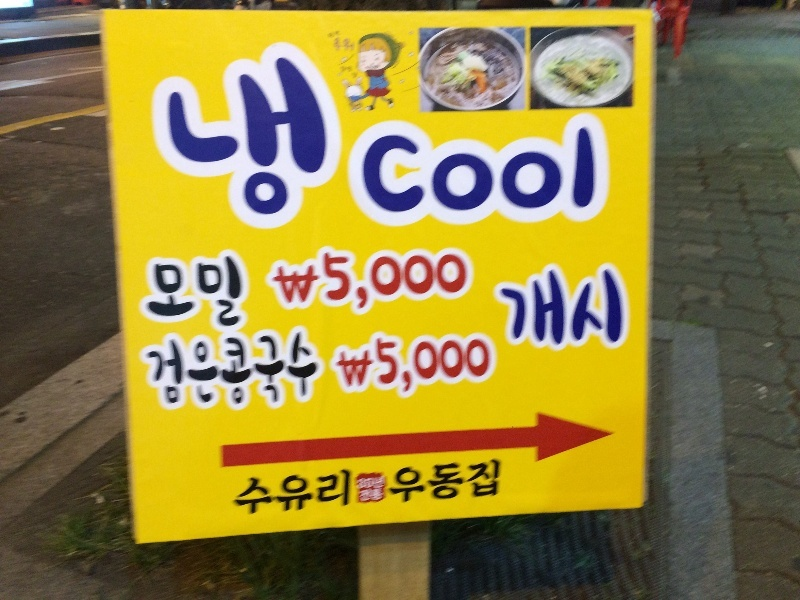text: (177, 48, 192, 234), (193, 48, 208, 234), (209, 48, 224, 234), (225, 48, 240, 234), (241, 48, 256, 234), (257, 48, 272, 234), (273, 48, 288, 234), (289, 48, 304, 234), (305, 48, 320, 234), (321, 48, 336, 234), (163, 48, 176, 234), (609, 260, 625, 346), (369, 126, 384, 215), (385, 126, 400, 215), (401, 126, 416, 215), (417, 126, 432, 215), (433, 126, 448, 215), (449, 126, 464, 215), (465, 126, 480, 215), (481, 126, 496, 215), (497, 126, 512, 215), (513, 126, 528, 215), (529, 126, 544, 215), (545, 126, 560, 215), (561, 126, 576, 215), (577, 126, 592, 215), (145, 326, 160, 415), (161, 326, 176, 415), (177, 326, 192, 415), (193, 326, 208, 415), (209, 326, 224, 415), (225, 326, 240, 415), (241, 326, 256, 415), (257, 326, 272, 415), (273, 326, 288, 415), (289, 326, 304, 415), (513, 260, 528, 346), (529, 260, 544, 346), (545, 260, 560, 346), (561, 260, 576, 346), (577, 260, 592, 346), (593, 260, 608, 346), (305, 326, 319, 415), (498, 260, 512, 346), (161, 255, 176, 331), (177, 255, 192, 331), (193, 255, 208, 331), (209, 255, 224, 331), (225, 255, 240, 331), (273, 243, 288, 317), (289, 243, 304, 317), (305, 243, 320, 317), (321, 243, 336, 317), (337, 243, 352, 317), (353, 243, 368, 317), (369, 243, 384, 317), (385, 243, 400, 317), (401, 243, 416, 317), (417, 243, 432, 317), (433, 243, 448, 317), (449, 243, 464, 317), (337, 335, 352, 404), (353, 335, 368, 404), (369, 335, 384, 404), (385, 335, 400, 404), (401, 335, 416, 404), (417, 335, 432, 404), (433, 335, 448, 404), (449, 335, 464, 404), (465, 335, 480, 404), (241, 468, 256, 517), (257, 468, 272, 517), (273, 468, 288, 517), (289, 468, 304, 517), (305, 468, 320, 517), (321, 468, 336, 517), (401, 458, 416, 505), (417, 458, 432, 505), (433, 458, 448, 505), (449, 458, 464, 505), (465, 458, 480, 505), (481, 458, 496, 505), (481, 335, 491, 404), (337, 468, 351, 517), (337, 48, 340, 234), (153, 255, 160, 331), (363, 126, 368, 215), (369, 476, 384, 505), (356, 476, 368, 505), (394, 458, 400, 505), (593, 126, 596, 215), (337, 37, 352, 54), (497, 458, 501, 505), (270, 243, 272, 317), (465, 243, 467, 317), (241, 255, 242, 331), (335, 335, 336, 404), (353, 37, 356, 54), (239, 468, 240, 517), (334, 37, 336, 54), (385, 476, 386, 505)
